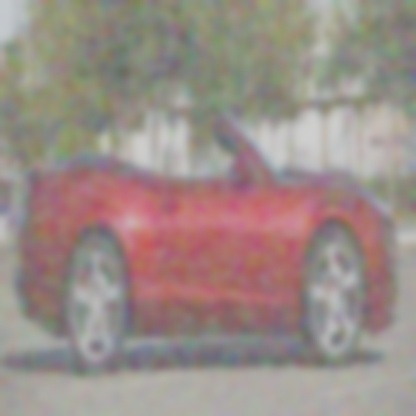Vehicle: (11, 109, 404, 382)
